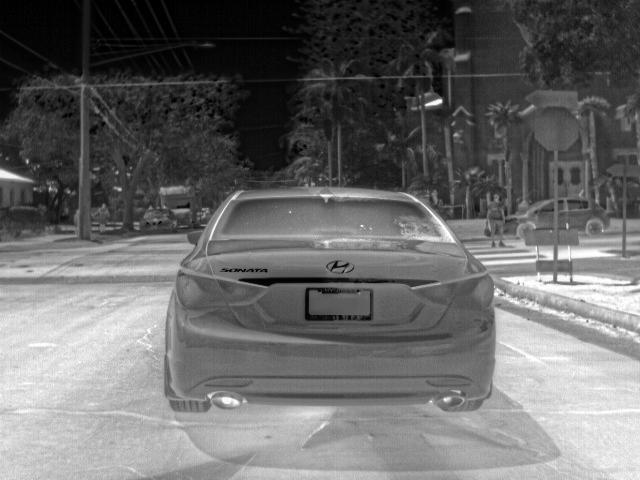car: (161, 185, 493, 416), (558, 195, 611, 236), (504, 196, 552, 239), (140, 206, 175, 236)
person: (485, 193, 505, 247)
